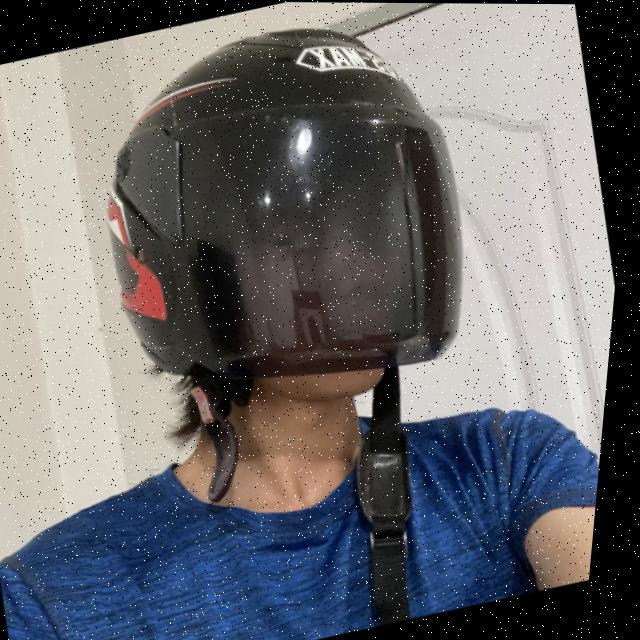illegal_helmet: (36, 0, 570, 640)
